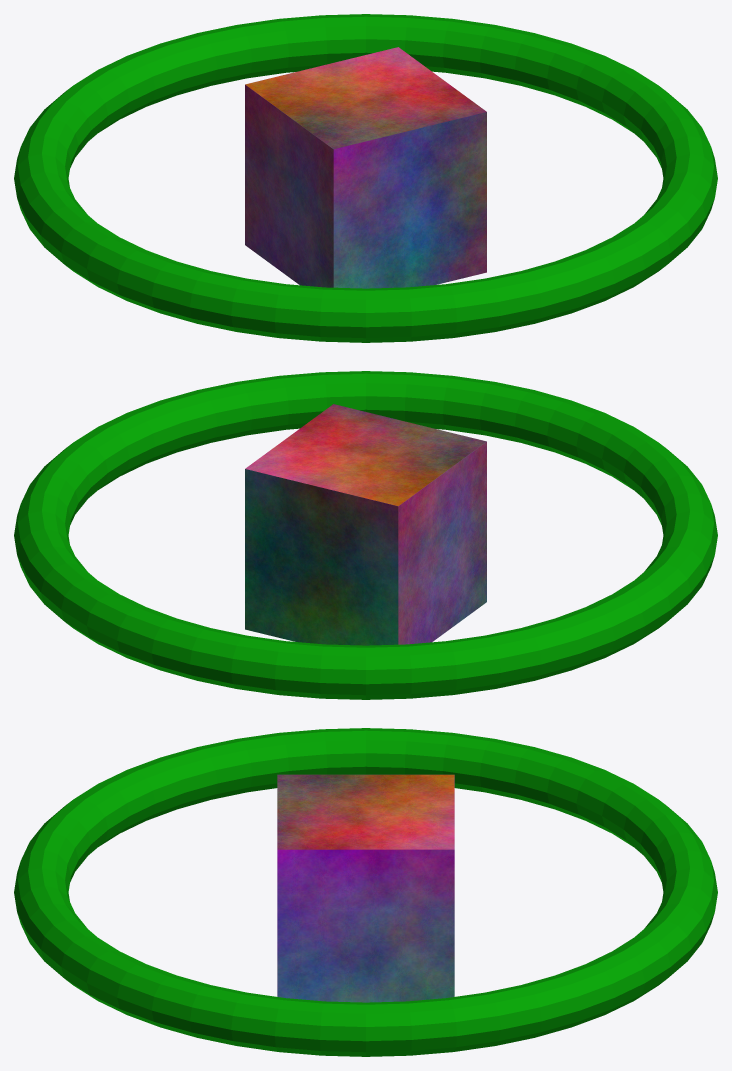
File: toruscube.obj
The picture shows the model from 3 angles, top to bottom: view 1: azimuth 30°, elevation 25°; view 2: azimuth 150°, elevation 25°; view 3: azimuth 270°, elevation 25°; orthographic projection.
Visible parts, largest first — view 1: Torus, Cube; view 2: Torus, Cube; view 3: Torus, Cube.
Boxes of the visible parts, x1,y1,x2,y2 form: Torus: (14, 14, 717, 342); Cube: (245, 47, 486, 288); Torus: (14, 371, 717, 699); Cube: (245, 404, 486, 645); Torus: (14, 728, 717, 1056); Cube: (277, 774, 454, 1002).
Bounding box in the file's own units: 1.59 × 0.4 × 1.59.
Materials: 2 (1 with a texture image).
